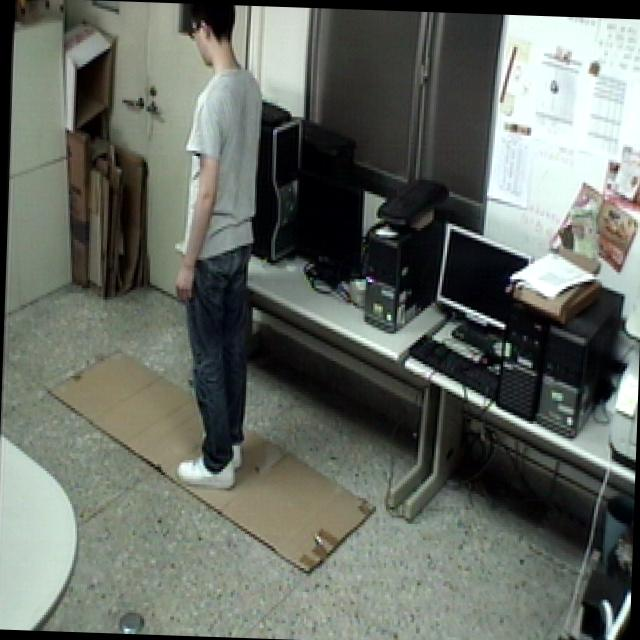stand: (162, 0, 277, 495)
